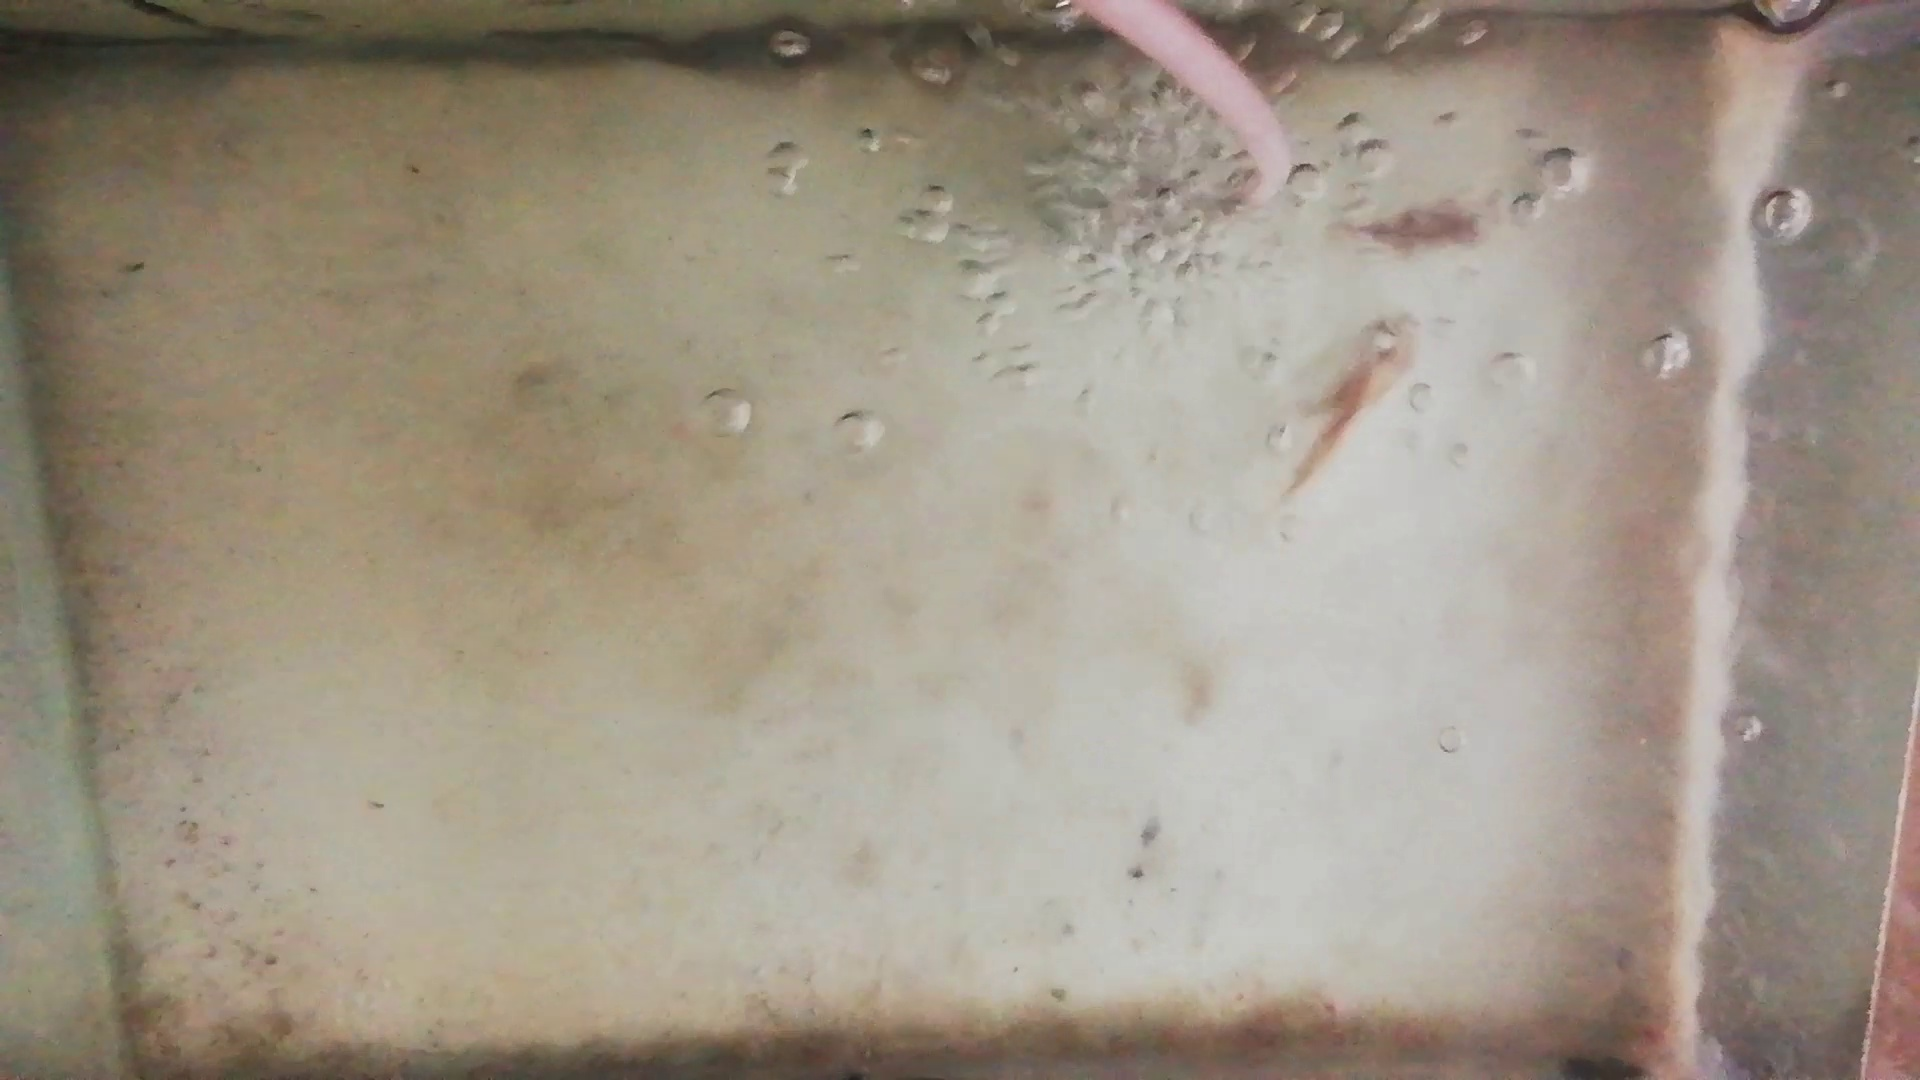fish: (1288, 315, 1407, 493), (1336, 204, 1491, 255)
